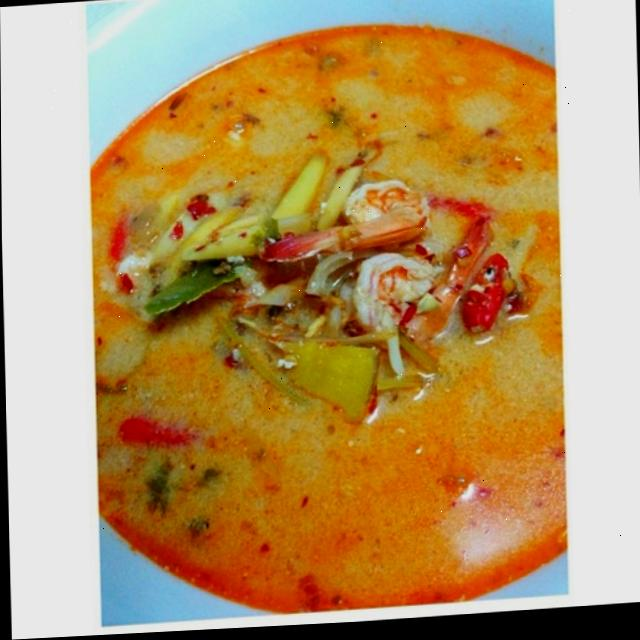汤锅炖物: (118, 45, 533, 551)
